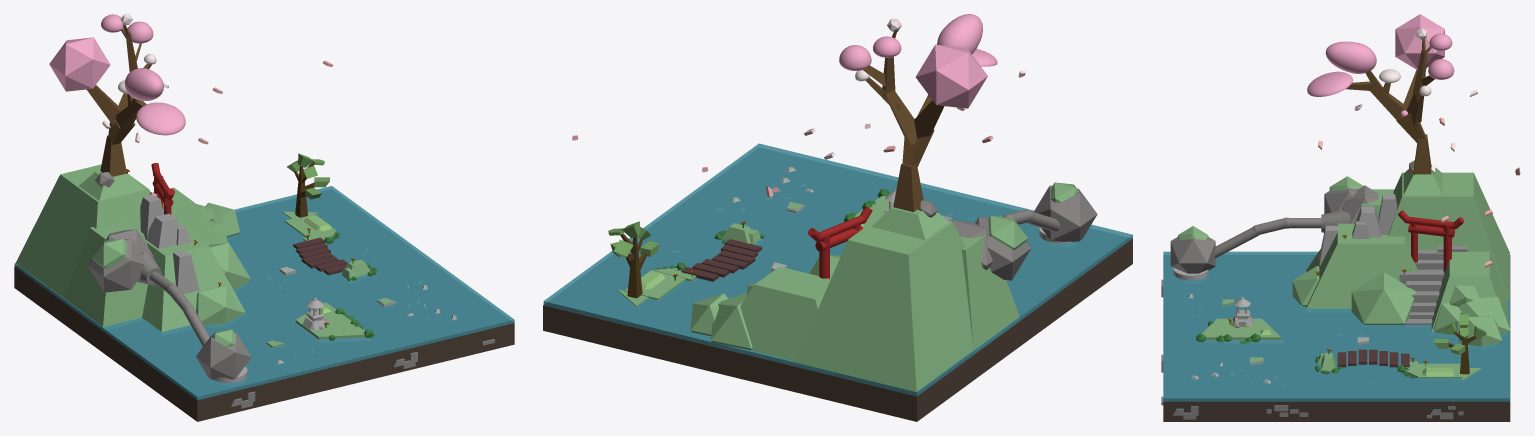
The model's file is cherry.glb.
3 renders of one model, left to right at view 1: azimuth 30°, elevation 25°; view 2: azimuth 150°, elevation 25°; view 3: azimuth 270°, elevation 25°, orthographic. The views are drawn at different scales.
Visible parts, largest first — view 1: box (×3), truncatedPyramid4 (×10), icosahedron (×8), hemisphere (×2); view 2: box (×3), truncatedPyramid4 (×8), icosahedron (×7), hemisphere (×3); view 3: box (×6), truncatedPyramid4 (×11), icosahedron (×10), hemisphere (×4), cylinder (×3), truncatedCone.
Part boxes in pixels (x1=…): box (×3): x1=14, y1=186, x2=514, y2=421; truncatedPyramid4 (×10): x1=16, y1=85, x2=245, y2=331; icosahedron (×8): x1=49, y1=37, x2=251, y2=379; hemisphere (×2): x1=128, y1=68, x2=185, y2=135; box (×3): x1=543, y1=143, x2=1132, y2=421; truncatedPyramid4 (×8): x1=740, y1=89, x2=1019, y2=391; icosahedron (×7): x1=690, y1=44, x2=1097, y2=349; hemisphere (×3): x1=839, y1=14, x2=982, y2=67; box (×6): x1=1163, y1=251, x2=1510, y2=421; truncatedPyramid4 (×11): x1=1306, y1=50, x2=1509, y2=331; icosahedron (×10): x1=1170, y1=14, x2=1510, y2=346; hemisphere (×4): x1=1307, y1=41, x2=1454, y2=96; cylinder (×3): x1=1214, y1=218, x2=1454, y2=258; truncatedCone: x1=1321, y1=210, x2=1355, y2=232.
Size of what is drawn, in the model's own units: 40.78 by 35.65 by 41.36.
